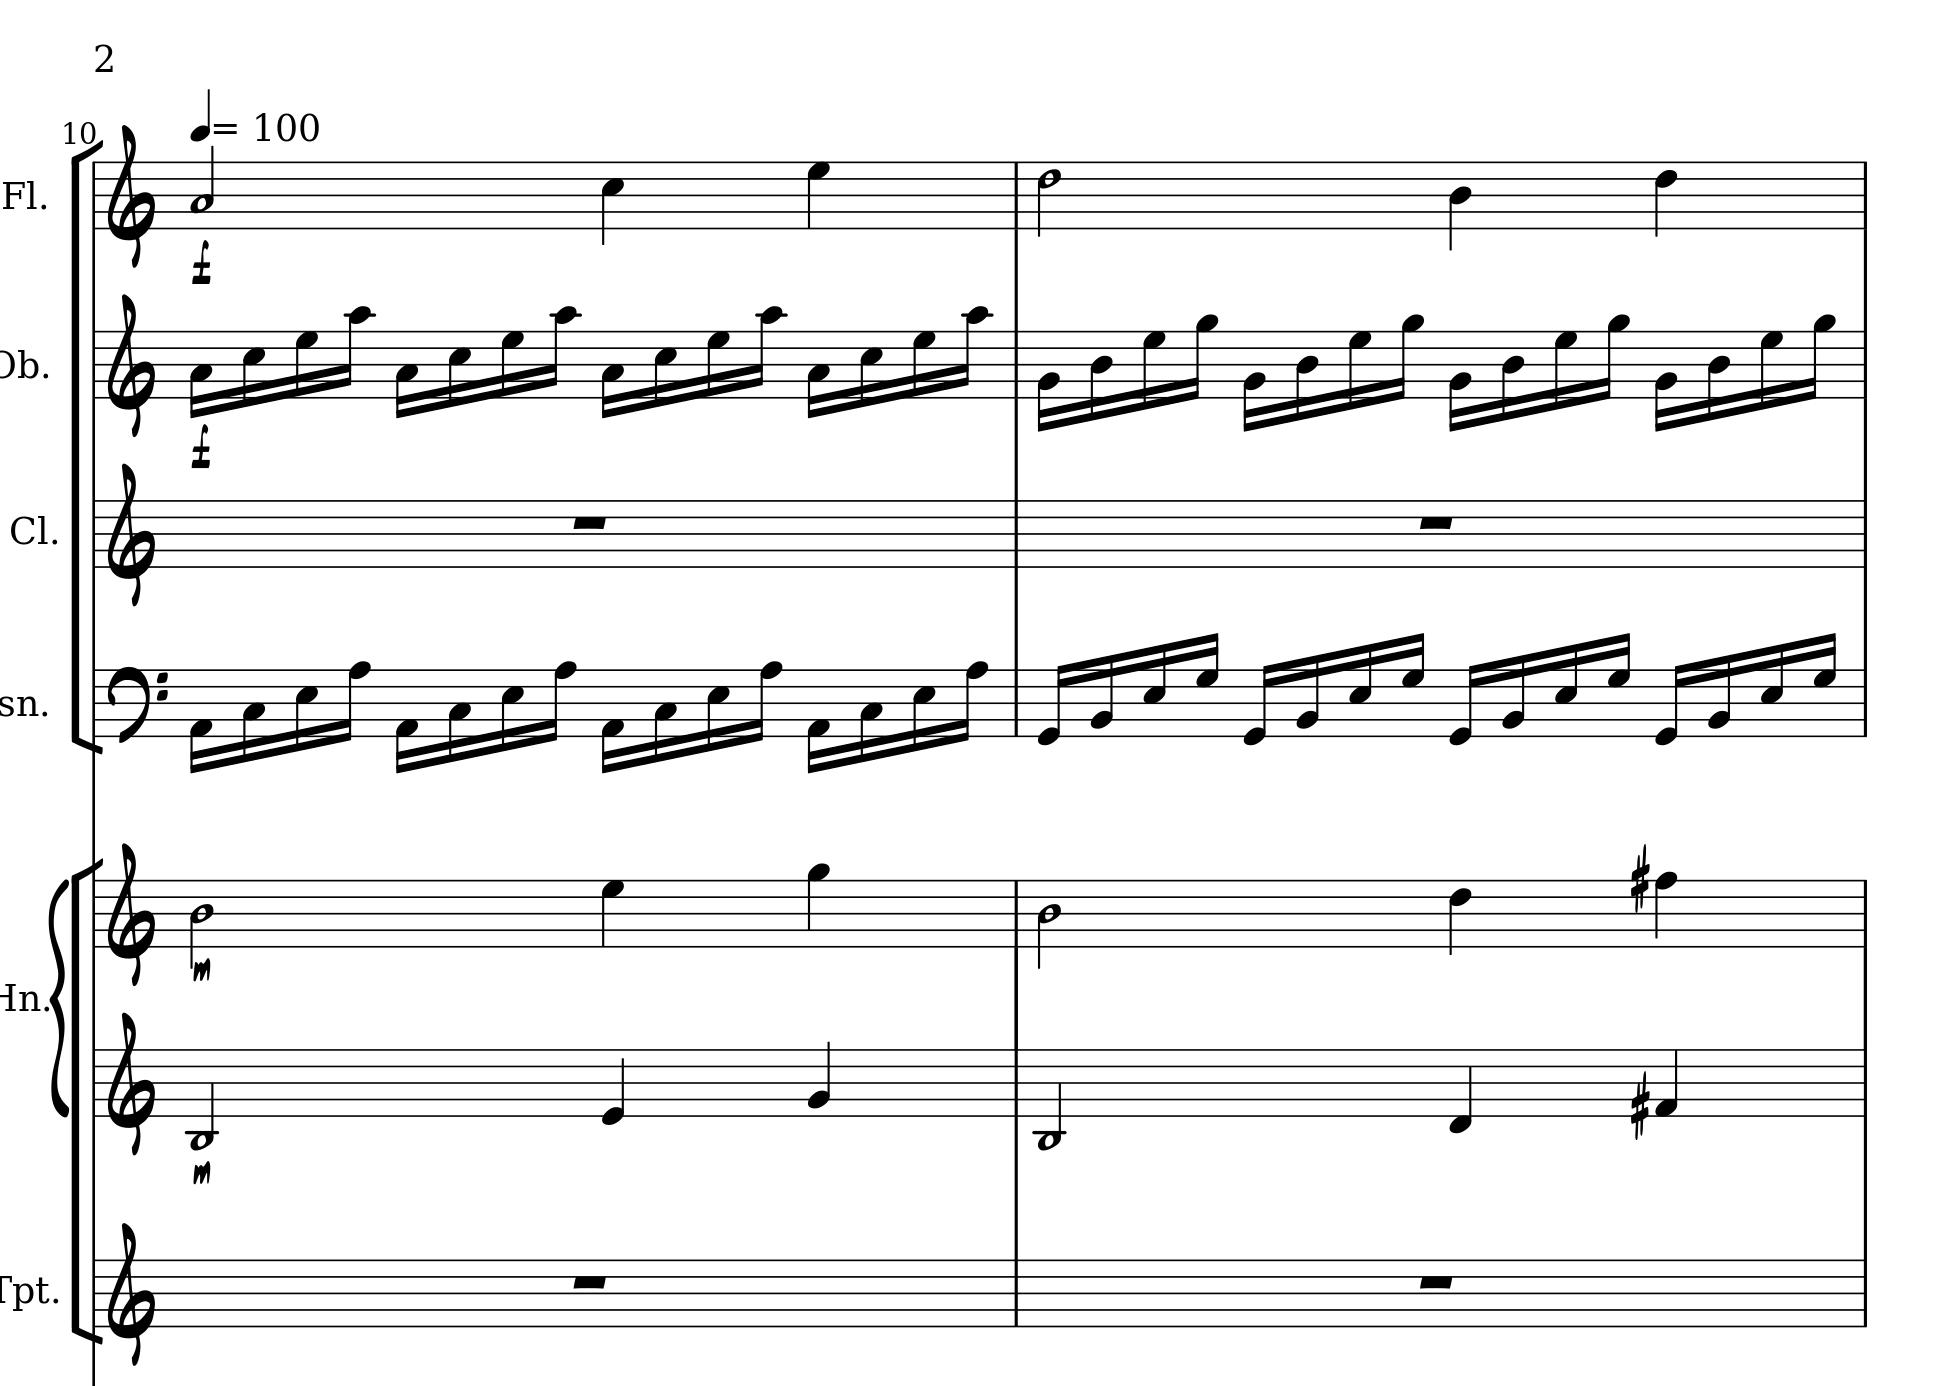0: (274, 109, 297, 142), (298, 109, 319, 142), (79, 118, 96, 145)
1: (253, 109, 271, 142), (61, 118, 76, 145)
16_0: (1239, 660, 1278, 748), (1446, 660, 1483, 747), (1651, 660, 1689, 747), (1035, 661, 1071, 747)
16_1: (187, 666, 214, 774), (805, 666, 831, 774), (394, 666, 420, 772), (600, 667, 625, 774)
16_10: (337, 304, 373, 400), (544, 304, 580, 400), (748, 304, 784, 400), (955, 304, 990, 400)
16_2: (1035, 328, 1062, 432), (1446, 327, 1473, 430), (1653, 328, 1680, 432), (1242, 327, 1267, 432), (1704, 654, 1734, 739), (1087, 652, 1116, 739), (1293, 652, 1321, 739), (1500, 652, 1528, 738)
16_3: (445, 666, 472, 763), (856, 666, 883, 763), (652, 666, 678, 763), (240, 667, 265, 763), (187, 328, 213, 420), (393, 328, 418, 420), (600, 328, 625, 418), (805, 328, 829, 418)
16_4: (1704, 327, 1732, 421), (1087, 328, 1114, 421), (1293, 328, 1320, 421), (1500, 328, 1527, 421)
16_5: (1141, 640, 1170, 738), (1759, 642, 1788, 738), (1347, 642, 1374, 739), (1554, 640, 1581, 738), (292, 666, 319, 753), (705, 666, 730, 753), (856, 328, 883, 409), (499, 666, 525, 751), (910, 666, 936, 751), (445, 328, 472, 408), (240, 328, 265, 408), (652, 328, 678, 408)
16_7: (1399, 630, 1428, 739), (1605, 630, 1633, 739), (1812, 631, 1840, 739), (1194, 628, 1221, 739), (1140, 328, 1167, 412), (1347, 328, 1374, 412), (1552, 328, 1579, 412), (1758, 328, 1785, 411), (292, 328, 319, 402), (703, 328, 730, 402), (910, 328, 936, 403), (499, 328, 525, 402)
16_8: (954, 658, 988, 742), (543, 660, 577, 742), (748, 660, 783, 742), (337, 660, 370, 744)
16_9: (1597, 313, 1632, 402), (1186, 312, 1219, 402), (1392, 313, 1425, 402), (1803, 312, 1836, 400)
2: (91, 40, 115, 73)
2_-3: (1033, 1044, 1066, 1150), (186, 1045, 217, 1150)
2_3: (189, 142, 214, 229)
2_4: (1035, 877, 1062, 967), (189, 877, 214, 970)
2_6: (1036, 159, 1062, 238)
4_-1: (1449, 1047, 1476, 1134)
4_0: (601, 1045, 627, 1128)
4_1: (1656, 1047, 1680, 1117)
4_2: (807, 1038, 834, 1117)
4_4: (1447, 159, 1473, 252)
4_5: (600, 159, 625, 247)
4_6: (1654, 159, 1680, 238), (1447, 877, 1473, 957)
4_7: (598, 877, 627, 948), (805, 160, 832, 229)
4_8: (1653, 868, 1678, 948)
4_9: (805, 859, 831, 949)
Brace: (49, 874, 67, 1116)
Bracke: (66, 145, 100, 753), (64, 859, 103, 1342)
Cl: (7, 511, 49, 549)
Fclef: (106, 664, 169, 745)
Fl: (1, 177, 37, 214)
Gclef: (103, 1219, 157, 1366), (105, 1009, 157, 1156), (106, 460, 157, 607), (106, 292, 157, 436), (106, 123, 156, 268), (106, 841, 156, 987)
Ob: (1, 343, 39, 382)
Rests1: (1414, 1270, 1458, 1291), (568, 511, 610, 532), (1416, 511, 1458, 532), (568, 1270, 610, 1291)
Sharp: (1629, 841, 1653, 912), (1629, 1069, 1651, 1138)
Single_barline: (85, 670, 103, 741), (1008, 330, 1026, 397), (1008, 667, 1026, 735), (1857, 669, 1875, 736), (1008, 1048, 1026, 1116), (1008, 162, 1026, 228), (1008, 880, 1026, 946), (87, 877, 103, 946), (87, 1258, 102, 1333), (1857, 160, 1873, 226), (87, 162, 103, 228), (1857, 331, 1873, 397), (1008, 499, 1024, 565), (1857, 499, 1873, 565), (1008, 1258, 1024, 1324), (1857, 880, 1873, 945), (1857, 1050, 1873, 1114), (1857, 1260, 1873, 1324), (87, 330, 102, 397), (87, 499, 102, 565), (87, 1050, 100, 1114)
Speed4: (192, 87, 243, 138)
Tpt: (1, 1269, 49, 1312)
f: (189, 238, 213, 286), (189, 423, 211, 471)
m: (189, 949, 214, 984)
mp: (190, 1158, 214, 1185)
